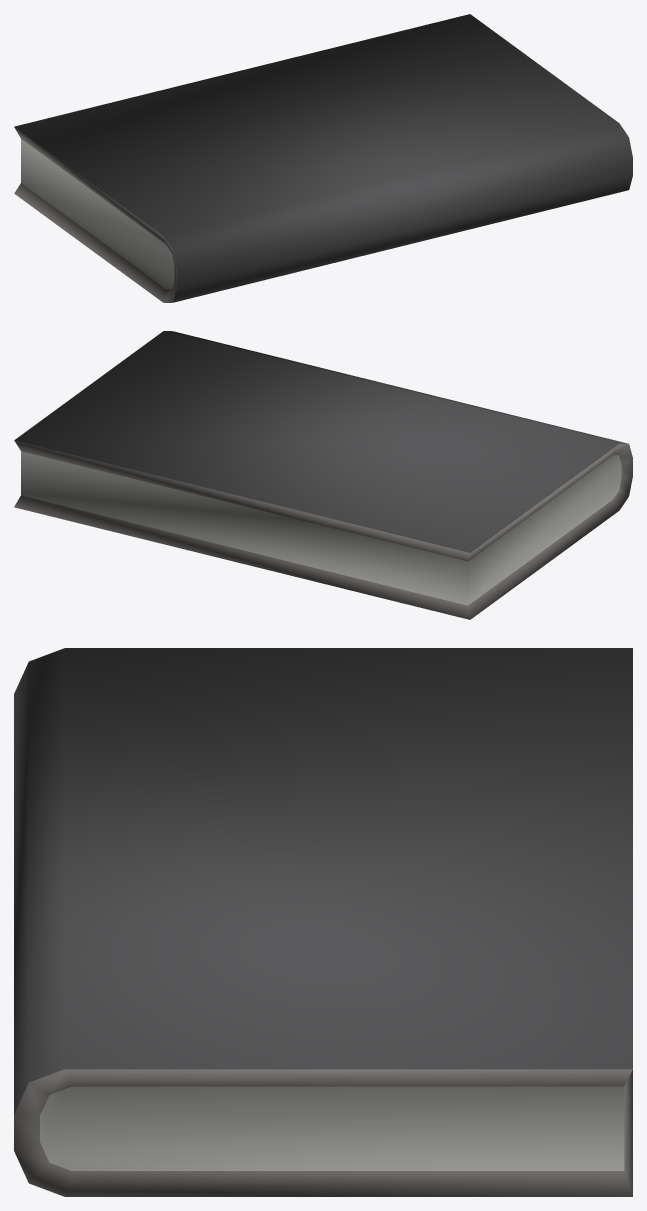
File: Assets.fbx_Book_vertical.fbx
3 views of the same model, one above another, from view 1: azimuth 30°, elevation 25°; view 2: azimuth 150°, elevation 25°; view 3: azimuth 270°, elevation 25° (orthographic). The views are drawn at different scales.
Visible parts, largest first — view 1: Book vertival; view 2: Book vertival; view 3: Book vertival.
Boxes of the visible parts, x1,y1,x2,y2 form: Book vertival: (14, 14, 632, 302); Book vertival: (14, 331, 632, 619); Book vertival: (14, 648, 632, 1196).
Bounding box in the file's own units: 32.24 × 4.62 × 19.91.
